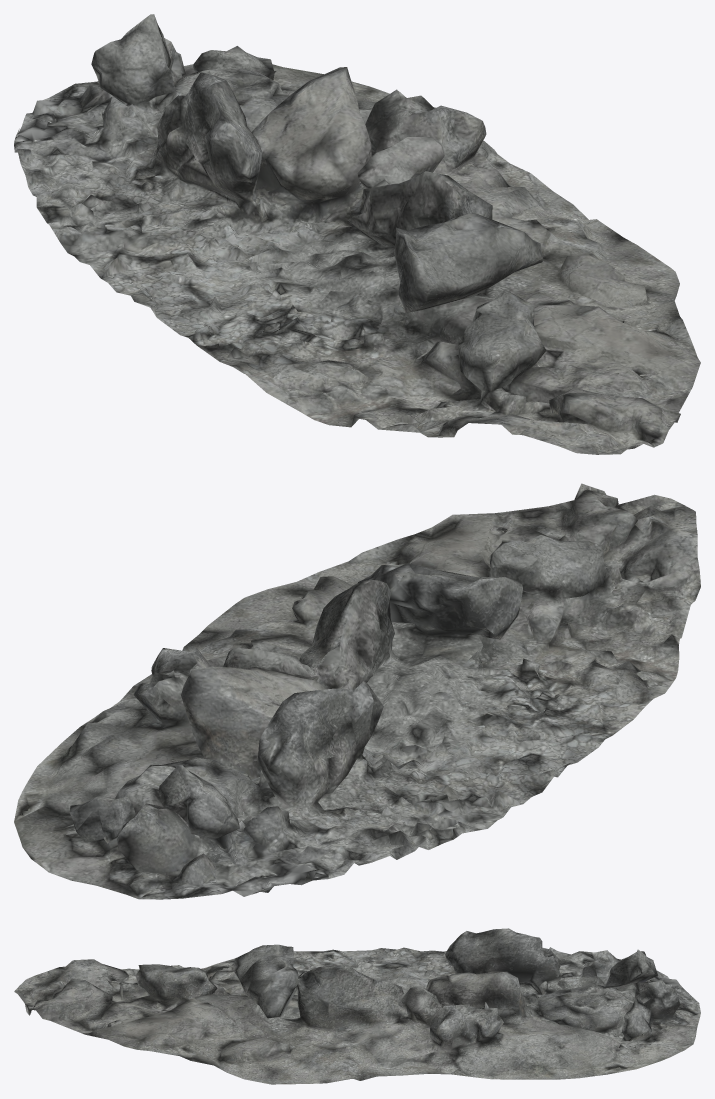
File: kineo-talus-pocket.glb
The picture shows the model from 3 angles, top to bottom: view 1: azimuth 30°, elevation 25°; view 2: azimuth 150°, elevation 25°; view 3: azimuth 270°, elevation 25°; orthographic projection. The views are drawn at different scales.
Parts seen in each view (by area): view 1: kineo talus pocket; view 2: kineo talus pocket; view 3: kineo talus pocket.
Boxes of the visible parts, x1,y1,x2,y2 form: kineo talus pocket: (14, 14, 700, 454); kineo talus pocket: (14, 483, 700, 899); kineo talus pocket: (14, 928, 700, 1084).
Size of the model in its own units: 3.67 by 1.03 by 7.84.
1 material, 1 textured.
